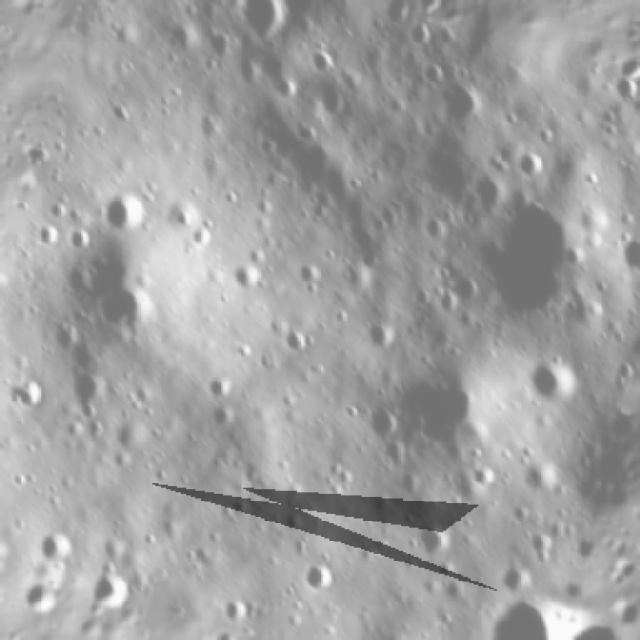crater: (471, 186, 592, 332), (373, 353, 501, 478), (40, 234, 171, 355), (472, 577, 572, 640), (521, 346, 584, 416), (218, 0, 294, 54), (58, 365, 120, 426), (91, 182, 151, 240), (433, 78, 492, 134), (1, 361, 57, 414), (439, 270, 487, 330), (22, 518, 78, 568), (353, 396, 402, 453), (277, 314, 325, 366), (404, 520, 454, 569), (292, 556, 345, 602), (517, 457, 566, 505), (357, 311, 406, 358), (603, 222, 640, 283), (222, 252, 270, 299), (488, 550, 532, 599), (505, 144, 553, 188), (310, 84, 355, 128), (296, 44, 341, 85), (601, 74, 640, 119), (410, 52, 450, 94), (218, 588, 256, 632), (196, 402, 238, 440), (190, 365, 230, 404), (400, 20, 438, 54), (88, 0, 134, 15)
